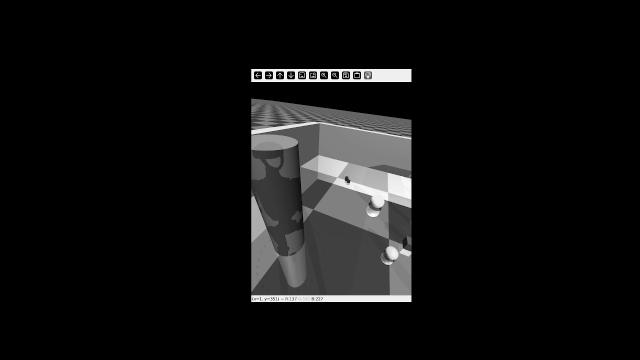cilindro: (251, 133, 308, 258)
cuadrado: (402, 234, 412, 253), (346, 179, 353, 184), (344, 175, 349, 179)
esfera: (383, 243, 401, 263), (367, 193, 386, 211)
